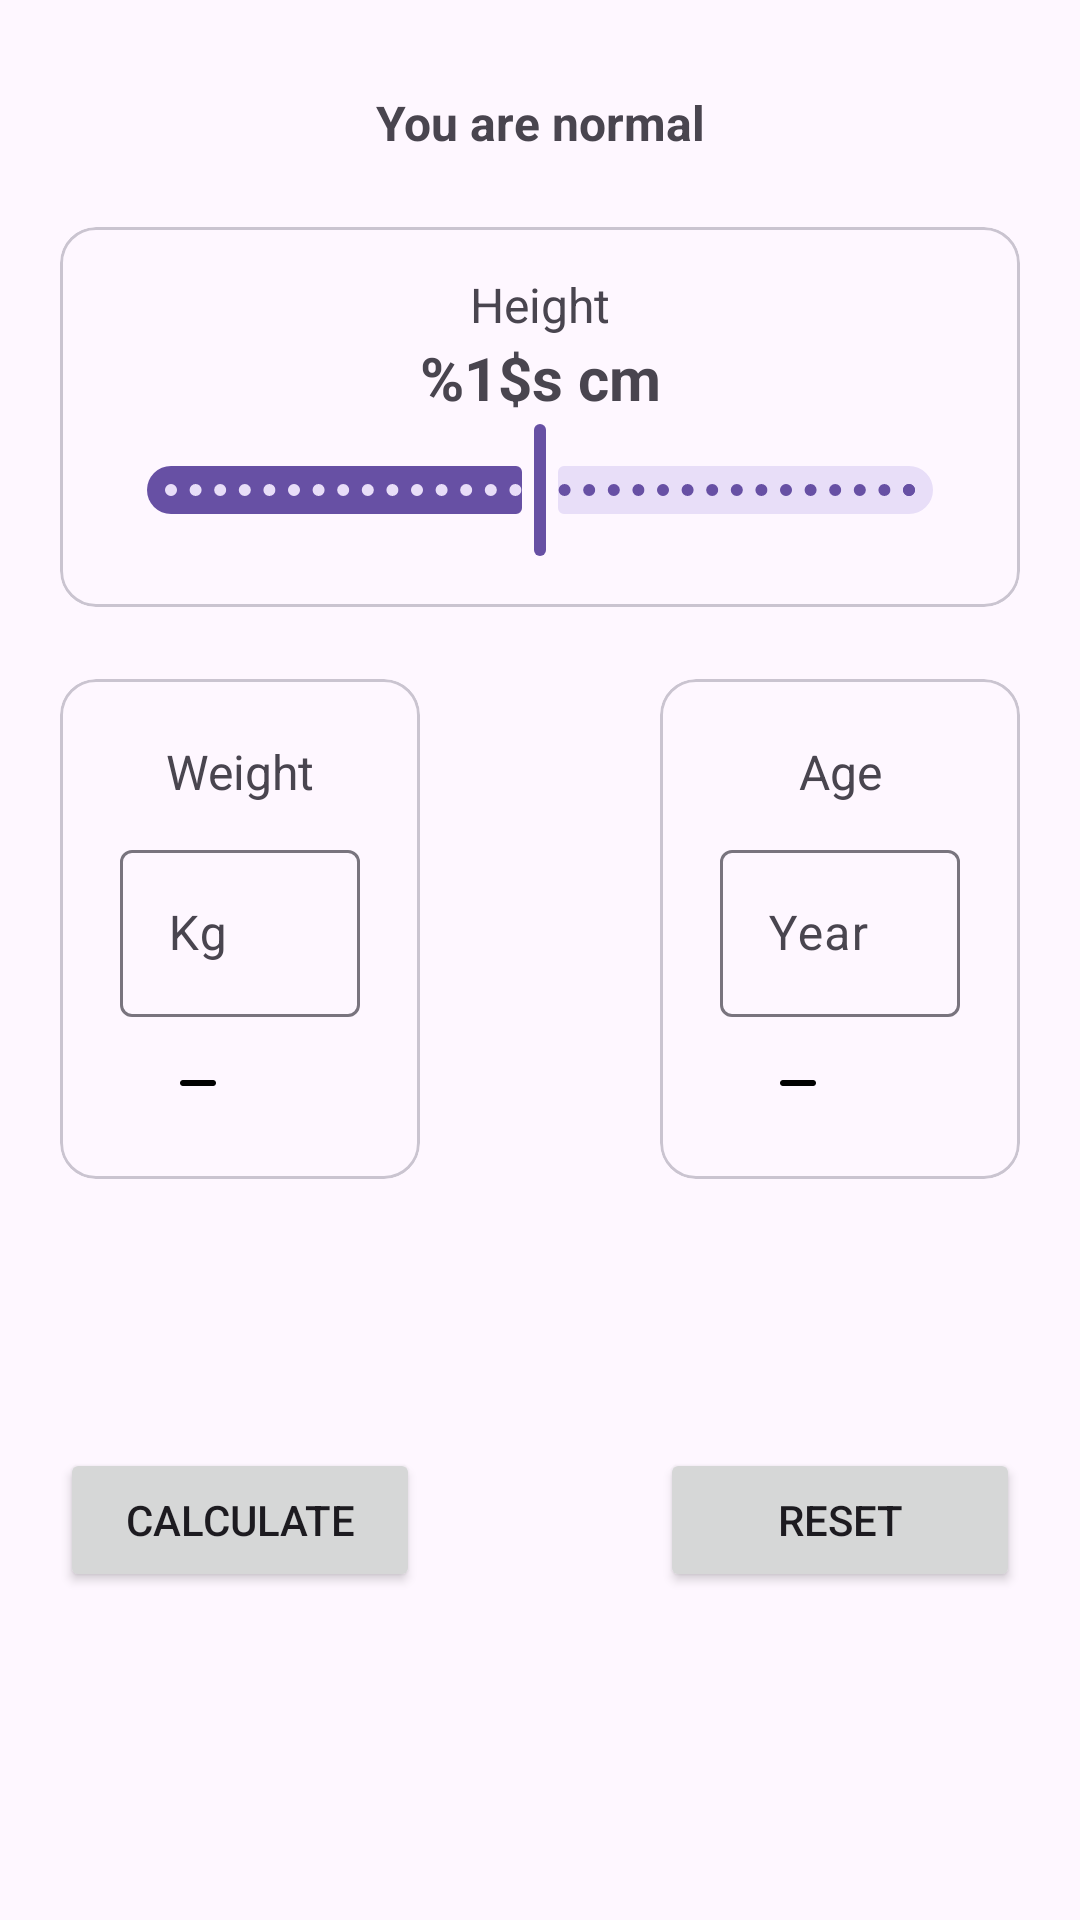

Icon bounding boxes for this 1080x1920 phone screenshot, format detection(x1, y1, x2, y2):
minus: detection(180, 1080, 216, 1086), detection(780, 1080, 816, 1086)
